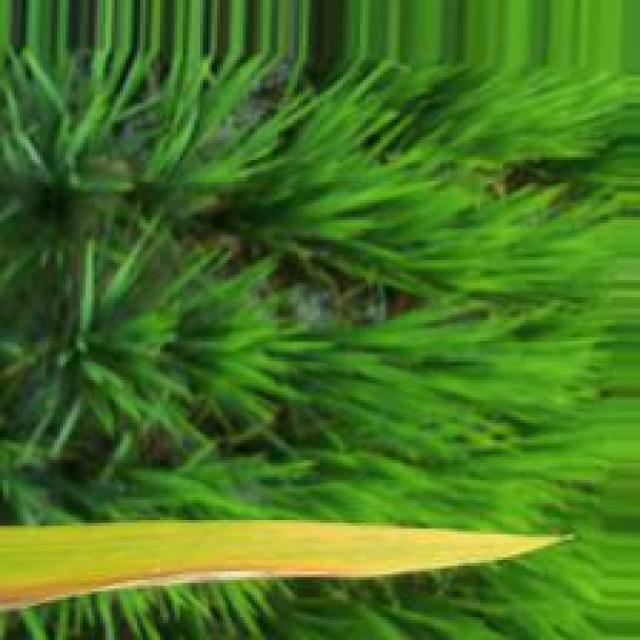Bacterial_Leaf_Blight: (184, 522, 560, 576), (0, 566, 341, 607)
